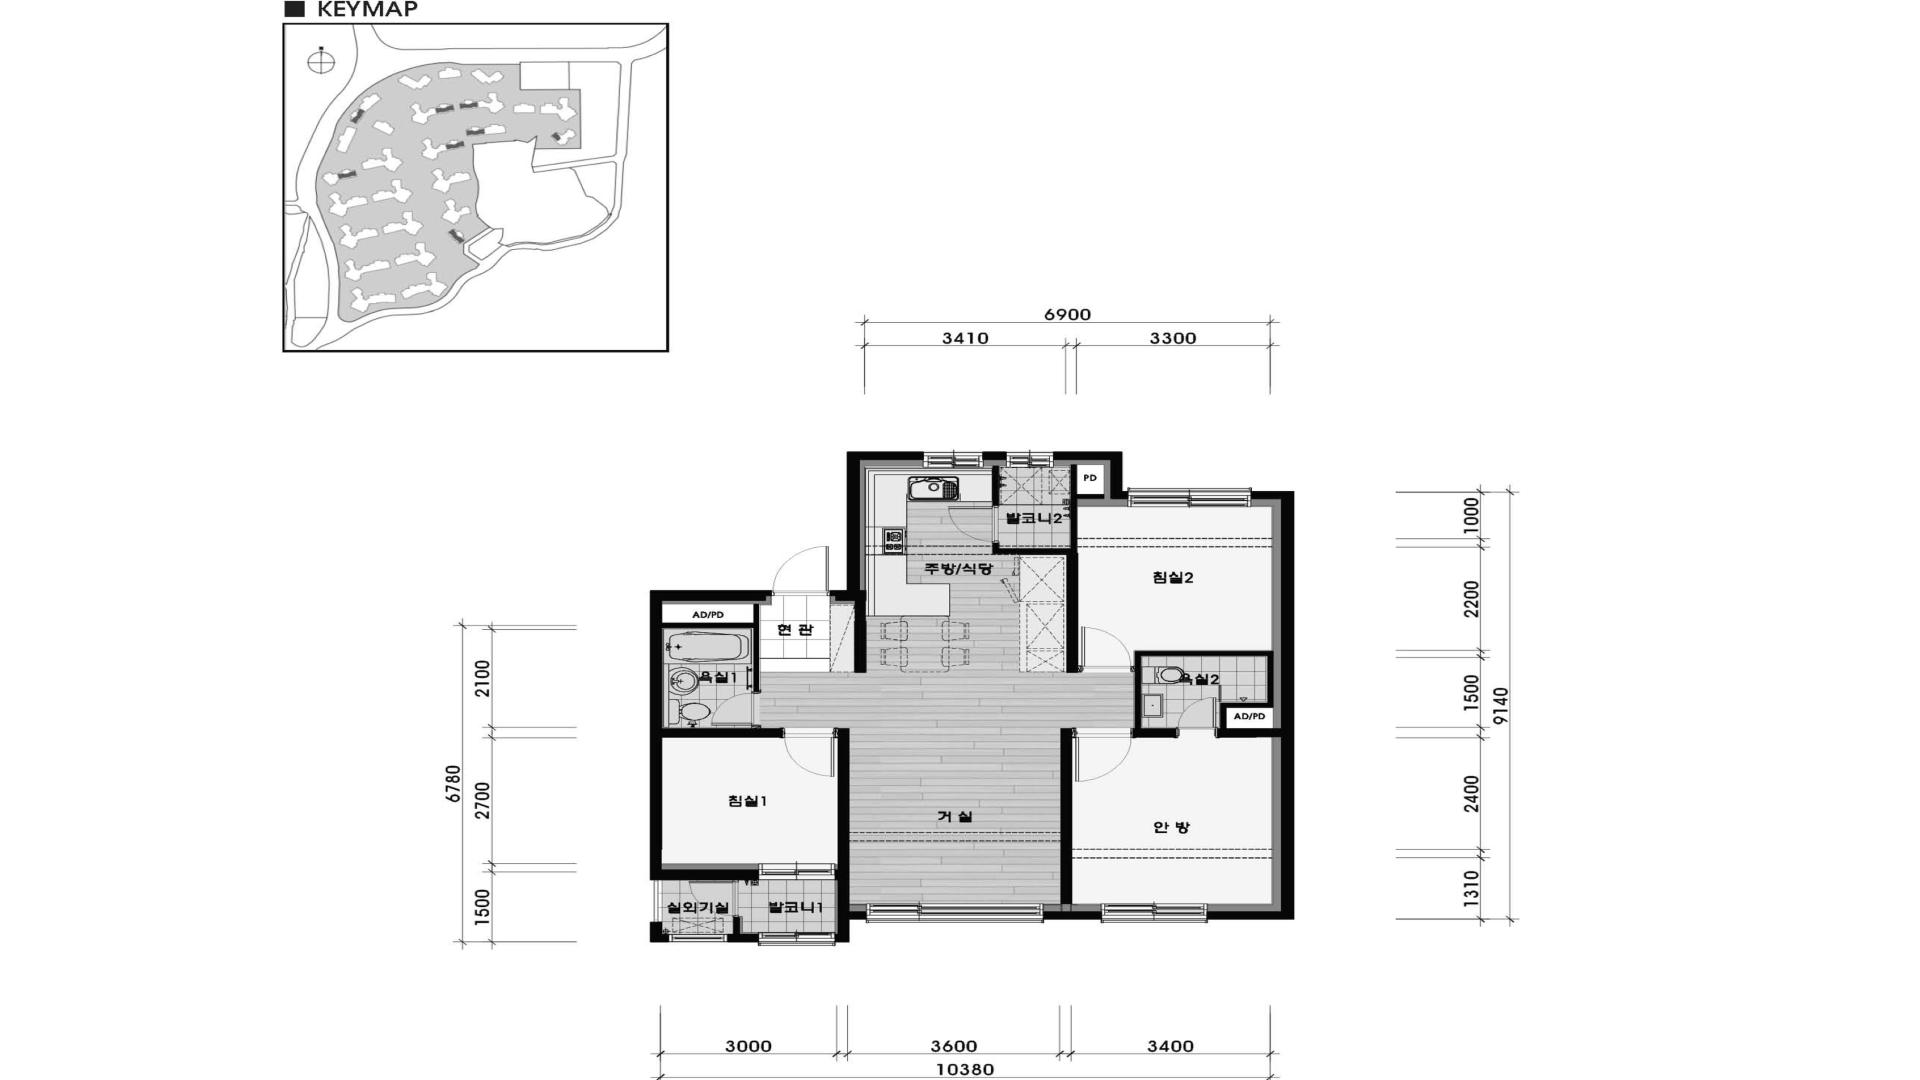door: (1072, 728, 1133, 782), (771, 546, 831, 596), (783, 728, 837, 777), (1079, 626, 1134, 673), (948, 505, 998, 543), (711, 692, 761, 728), (688, 881, 738, 916), (1176, 698, 1217, 738)
wall: (1208, 491, 1295, 919), (650, 589, 771, 881), (831, 451, 922, 601), (1134, 651, 1274, 728), (1054, 451, 1127, 500), (835, 728, 849, 911), (1060, 728, 1072, 911), (1067, 554, 1079, 673), (1220, 703, 1274, 728), (663, 728, 782, 738), (663, 869, 758, 881), (836, 911, 865, 943), (993, 543, 1077, 554), (855, 601, 866, 673), (1217, 728, 1280, 737), (753, 604, 760, 691), (1071, 464, 1077, 549), (662, 622, 753, 628), (1044, 911, 1100, 919), (1133, 728, 1176, 737), (650, 922, 669, 943), (992, 465, 1000, 505), (728, 934, 758, 942), (984, 451, 1006, 460), (733, 916, 740, 934), (1077, 495, 1105, 498)
window: (866, 903, 1044, 923), (1127, 488, 1251, 508), (1101, 903, 1208, 923), (758, 862, 835, 880), (758, 932, 836, 945), (923, 451, 984, 467), (1006, 451, 1054, 468), (669, 934, 728, 942), (654, 881, 662, 922)
